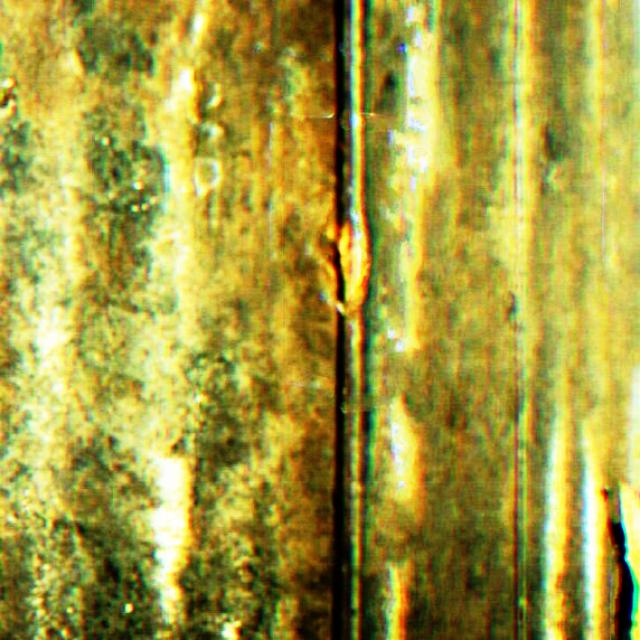Corrosion: (319, 215, 365, 311)
